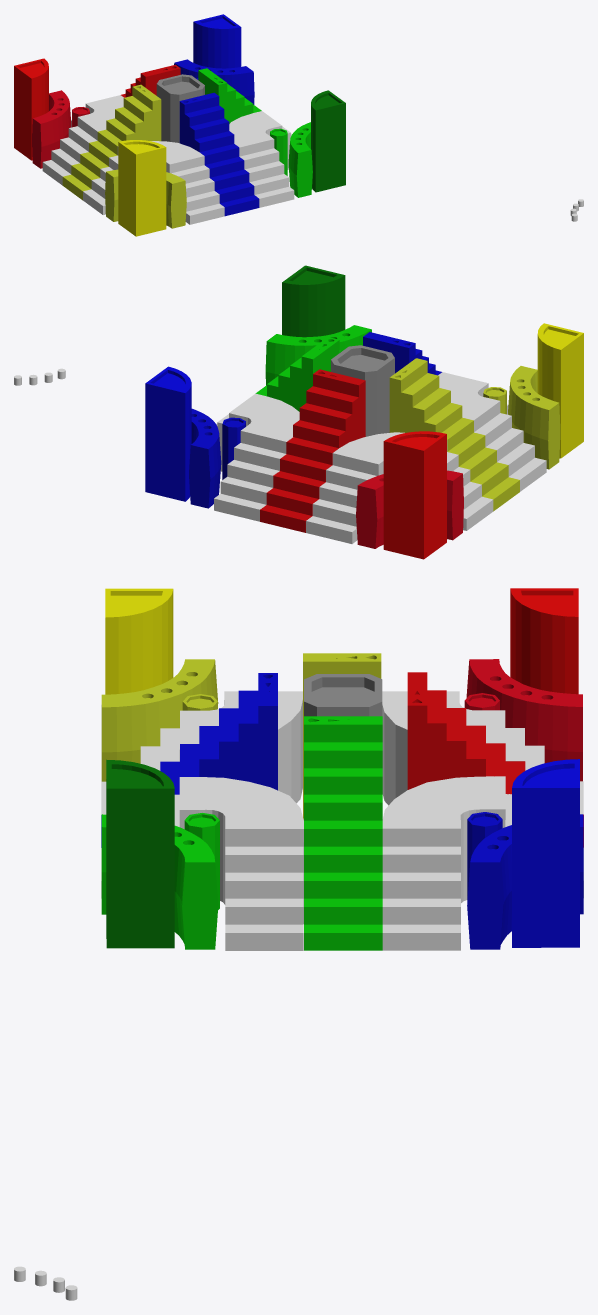
File: terrenoText.fbx
3 renders of one model, top to bottom at view 1: azimuth 30°, elevation 25°; view 2: azimuth 150°, elevation 25°; view 3: azimuth 270°, elevation 25°, orthographic. The views are drawn at different scales.
Visible parts, largest first — view 1: Escalera.000, EspPersonaje.001, Escalera.001, Camino, Camino.001, EspPersonaje, EspPersonaje.002, Camino.002, EspPersonaje.003, Carcel.002, Carcel.000, Centro (+4 smaller); view 2: Escalera.002, EspPersonaje.002, Escalera.001, Camino.003, Camino.002, EspPersonaje.003, EspPersonaje.001, Camino.001, EspPersonaje, Carcel.001, Carcel.003, Centro (+4 smaller); view 3: Escalera.003, Camino.003, Camino, EspPersonaje, EspPersonaje.003, Escalera.002, Escalera.000, EspPersonaje.001, EspPersonaje.002, Carcel.001, Carcel.002, Carcel.000 (+5 smaller).
Boxes of the visible parts, x1,y1,x2,y2 form: Escalera.000: [179, 92, 259, 216]; EspPersonaje.001: [118, 140, 166, 236]; Escalera.001: [62, 84, 161, 200]; Camino: [229, 111, 294, 207]; Camino.001: [83, 141, 224, 224]; EspPersonaje: [311, 90, 345, 192]; EspPersonaje.002: [14, 58, 48, 160]; Camino.002: [42, 95, 123, 185]; EspPersonaje.003: [193, 14, 241, 68]; Carcel.002: [32, 90, 89, 168]; Carcel.000: [270, 122, 312, 197]; Centro: [156, 74, 204, 143]; Escalera.002: [260, 369, 365, 532]; EspPersonaje.002: [383, 431, 446, 559]; Escalera.001: [389, 358, 519, 511]; Camino.003: [214, 393, 299, 521]; Camino.002: [306, 432, 493, 543]; EspPersonaje.003: [145, 366, 191, 501]; EspPersonaje.001: [537, 323, 583, 458]; Camino.001: [438, 372, 546, 491]; EspPersonaje: [282, 265, 345, 337]; Carcel.001: [483, 366, 560, 469]; Carcel.003: [189, 408, 245, 508]; Centro: [331, 345, 394, 436]; Escalera.003: [304, 716, 382, 950]; Camino.003: [382, 776, 583, 950]; Camino: [101, 777, 303, 950]; EspPersonaje: [106, 759, 174, 948]; EspPersonaje.003: [512, 759, 579, 947]; Escalera.002: [407, 672, 583, 847]; Escalera.000: [101, 673, 277, 847]; EspPersonaje.001: [105, 588, 173, 694]; EspPersonaje.002: [510, 588, 578, 694]; Carcel.001: [101, 659, 218, 781]; Carcel.002: [464, 659, 582, 781]; Carcel.000: [101, 813, 219, 949].
Bounding box in the file's own units: 5064 × 1660 × 2908.
